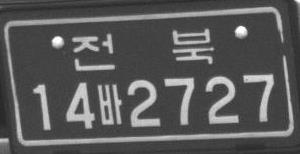1: (29, 82, 59, 130)
2: (206, 74, 239, 125), (128, 79, 160, 127)
4: (65, 82, 96, 128)
7: (241, 74, 276, 123), (163, 77, 195, 126)
바: (97, 83, 123, 125)
전북_D: (71, 27, 215, 71)
